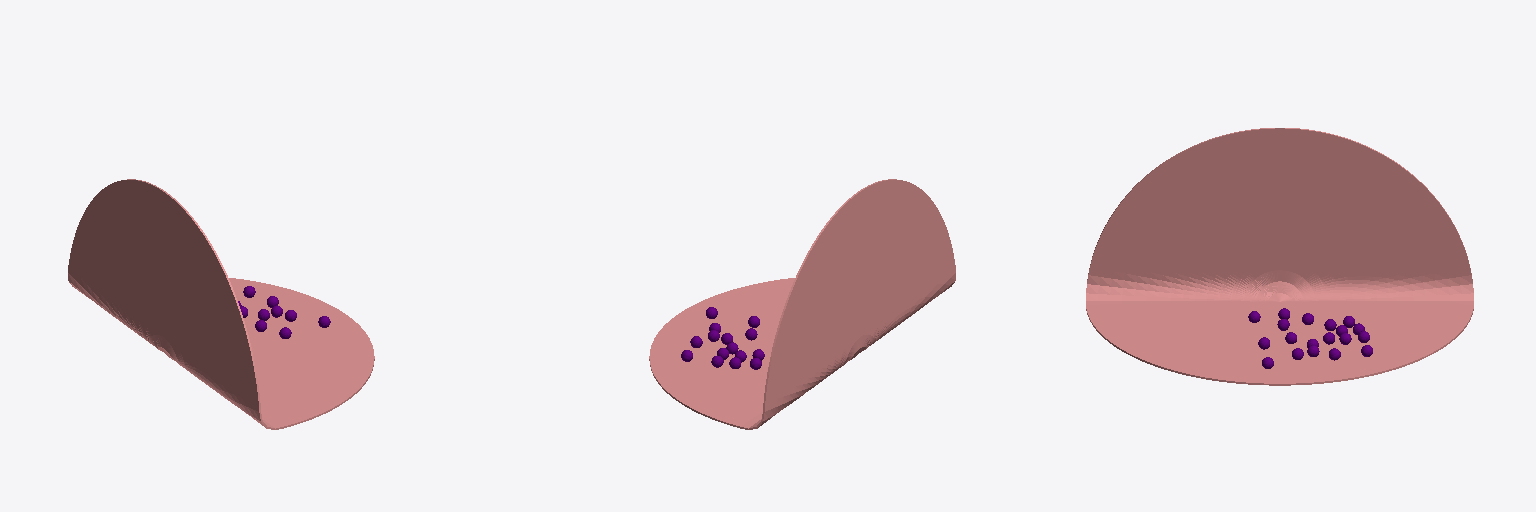
File: marbles.obj
3 views of the same model, side by side, from view 1: azimuth 30°, elevation 25°; view 2: azimuth 150°, elevation 25°; view 3: azimuth 270°, elevation 25° (orthographic).
Parts seen in each view (by area): view 1: Cylinder001; view 2: Cylinder001; view 3: Cylinder001.
Part boxes in pixels (left/top/right/bottom): Cylinder001: left=68, top=179, right=374, bottom=429; Cylinder001: left=649, top=179, right=955, bottom=429; Cylinder001: left=1086, top=128, right=1473, bottom=385.
Size of the model in its own units: 537 by 468 by 976.